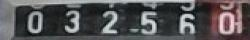digits: (216, 1, 243, 38), (62, 8, 79, 33), (100, 10, 118, 33), (139, 10, 157, 33), (177, 12, 195, 34), (27, 10, 43, 33)
